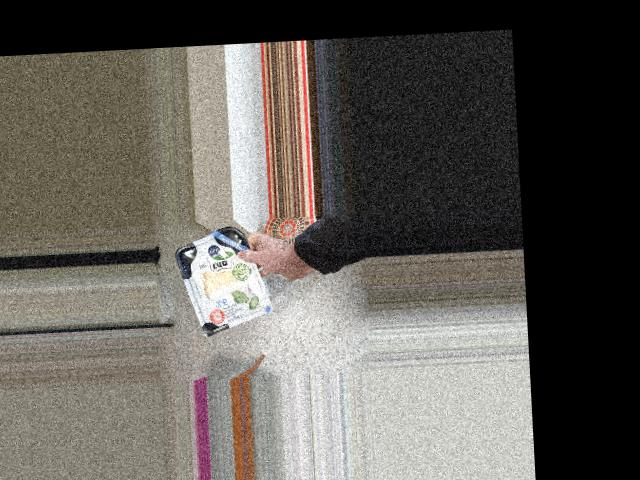cheese: (187, 234, 258, 324)
